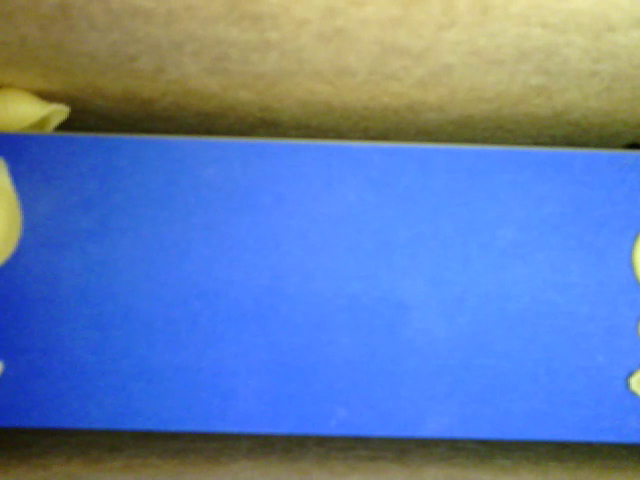shell: (1, 86, 71, 135), (1, 160, 29, 275)
